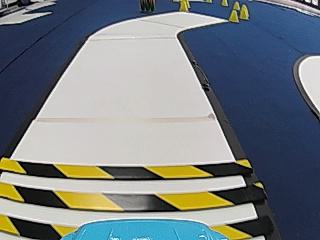bump: (0, 153, 273, 226)
